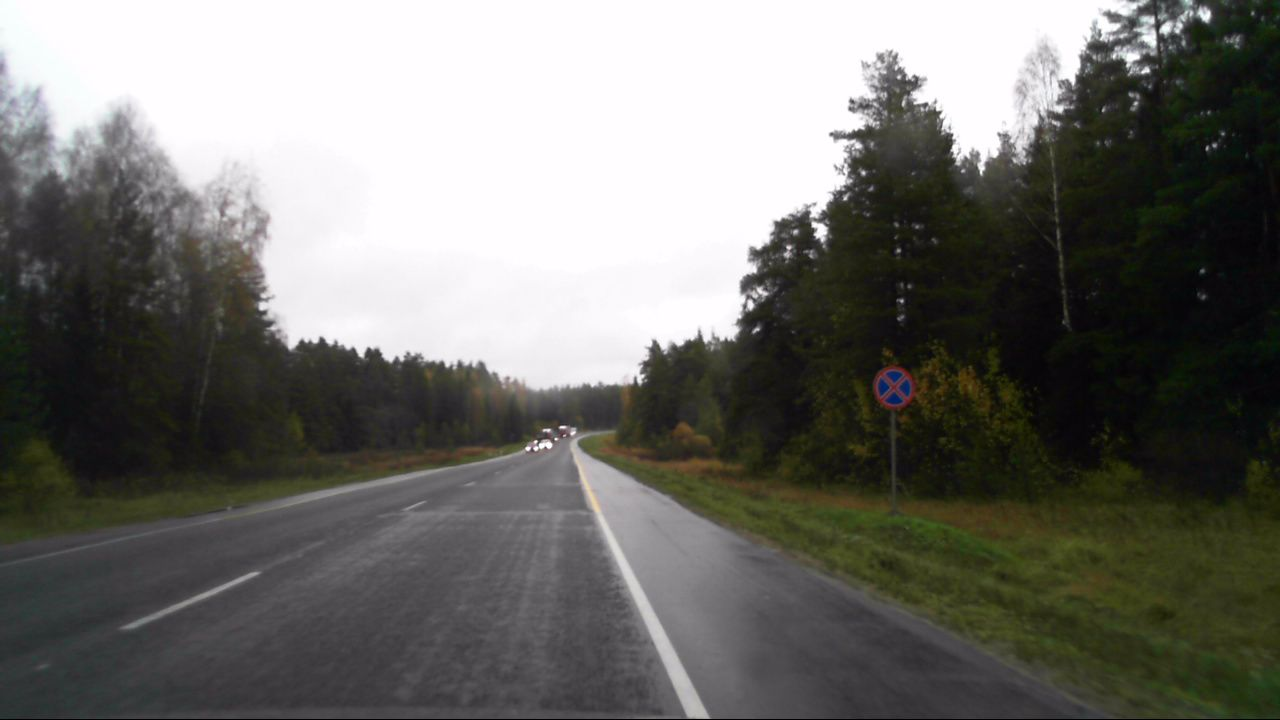No Parking: (869, 368, 916, 412)
